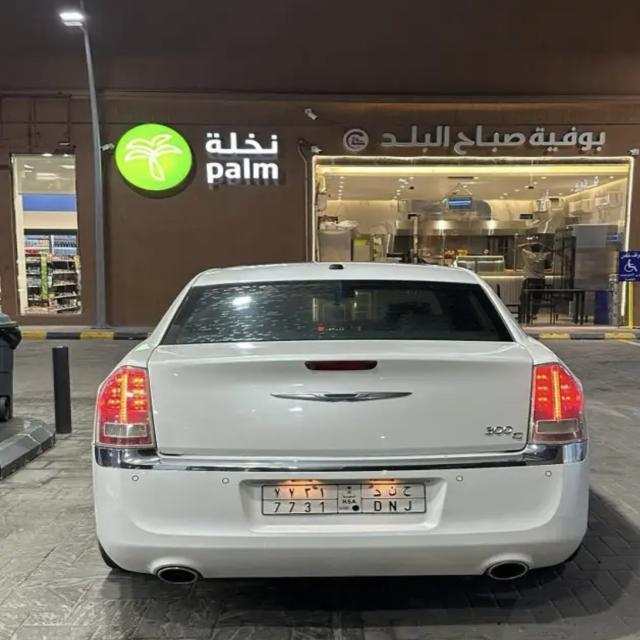license_plate: (262, 483, 432, 522)
